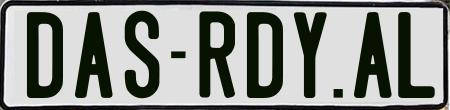A: (72, 12, 113, 104), (352, 12, 392, 99)
D: (27, 12, 65, 102), (245, 10, 282, 96)
L: (395, 12, 434, 103)
R: (199, 10, 241, 99)
S: (122, 8, 158, 98)
Y: (291, 11, 330, 103)
